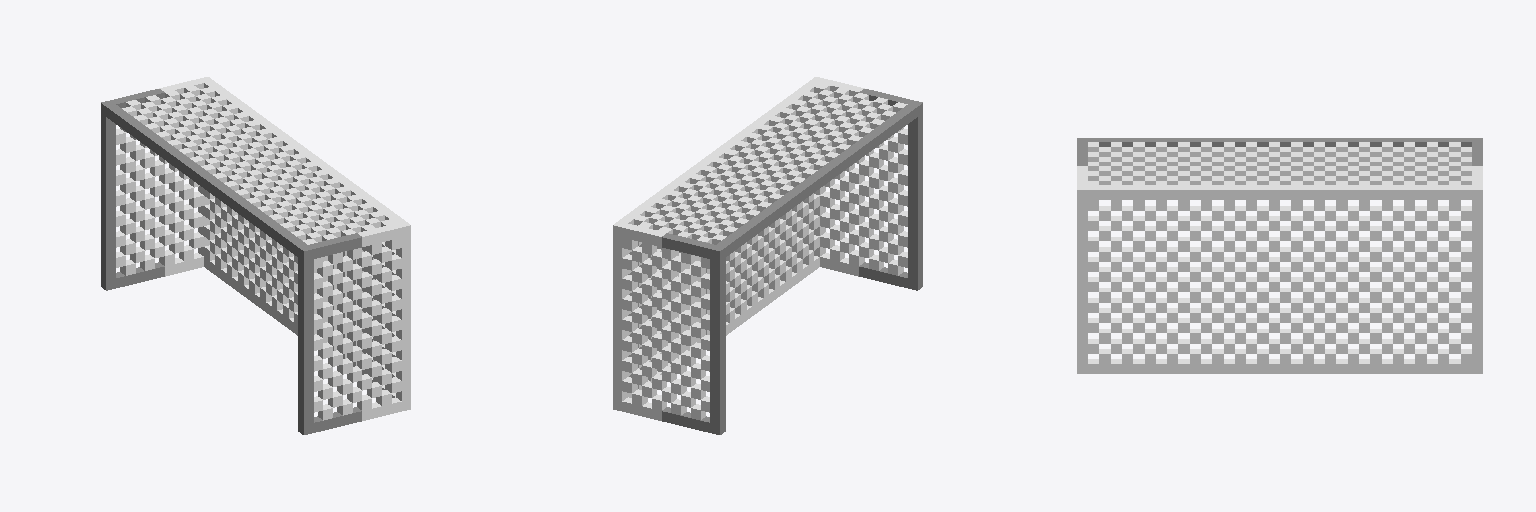
3 views of the same model, side by side, from view 1: azimuth 30°, elevation 25°; view 2: azimuth 150°, elevation 25°; view 3: azimuth 270°, elevation 25° (orthographic).
Visible parts, largest first — view 1: object 1; view 2: object 1; view 3: object 1.
Boxes of the visible parts, <box> form: object 1: <box>101,77,410,434</box>; object 1: <box>613,77,922,434</box>; object 1: <box>1077,138,1482,373</box>.
Size of the model in its own units: 1.1 by 1.8 by 3.6.
Materials: 1 (1 with a texture image).